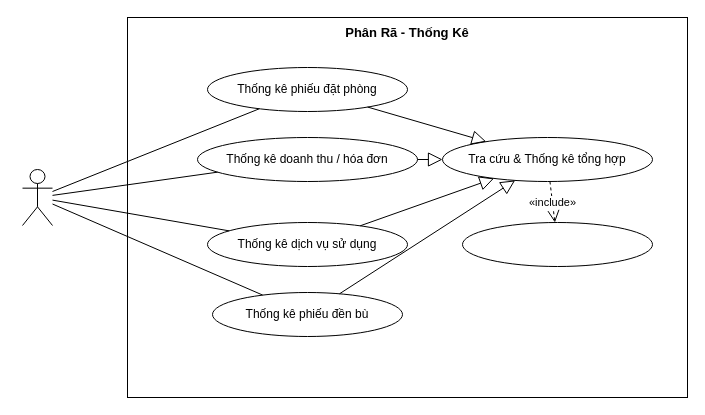
This 705x415 diagram has some shape labels left out. The centre of each missing label's shape, as x and y in pixels:
"Chọn khoảng thời gian" goes at (x=557, y=244).
"Quản lý" goes at (x=37, y=197).
